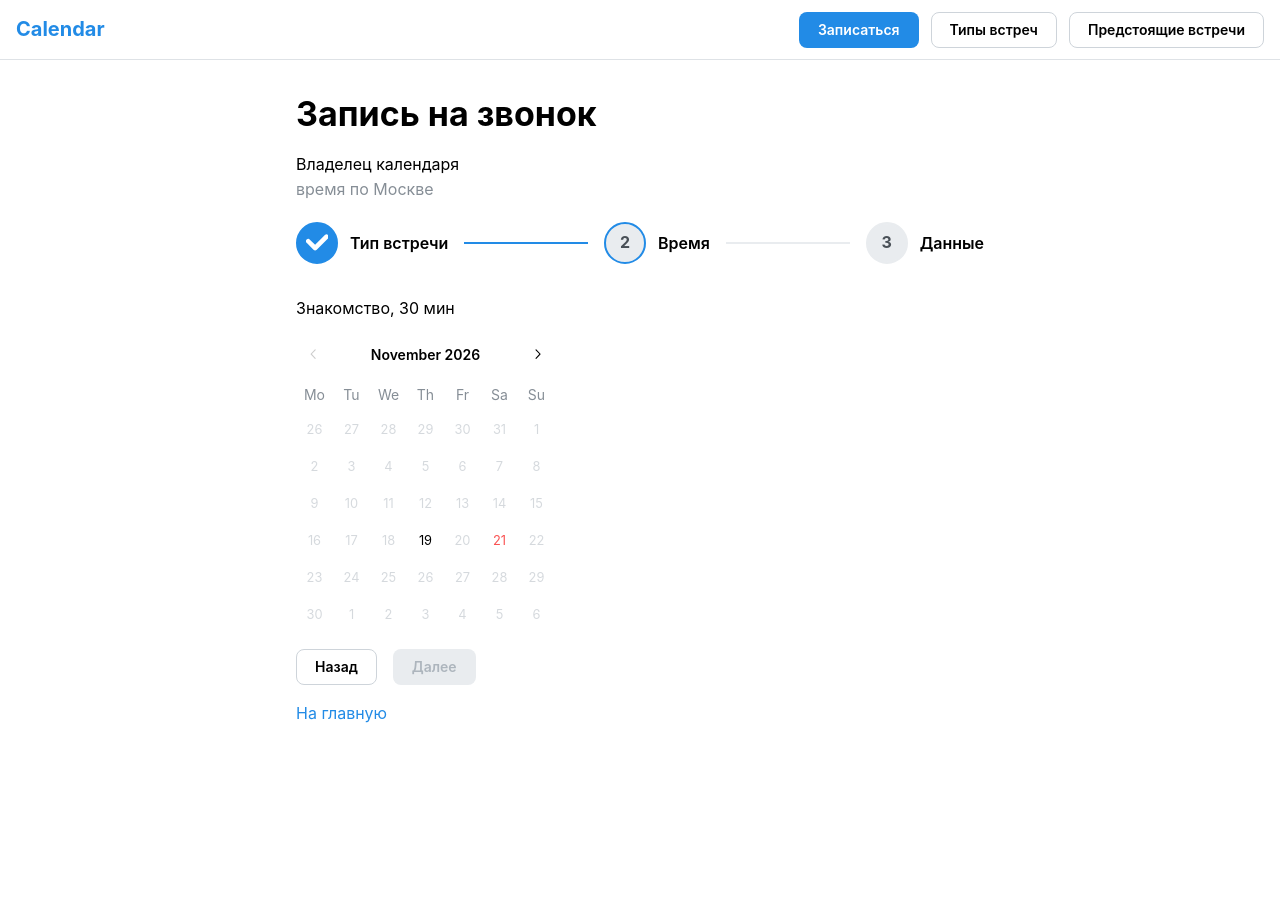
Test case: шаг «Время» › «Далее» ведёт на шаг «Данные», «Назад» возвращает на «Время» с выбранным слотом
The width and height of the screenshot is (1280, 900).
Click the button "19".
click(426, 541)  # box [408,523,444,559]
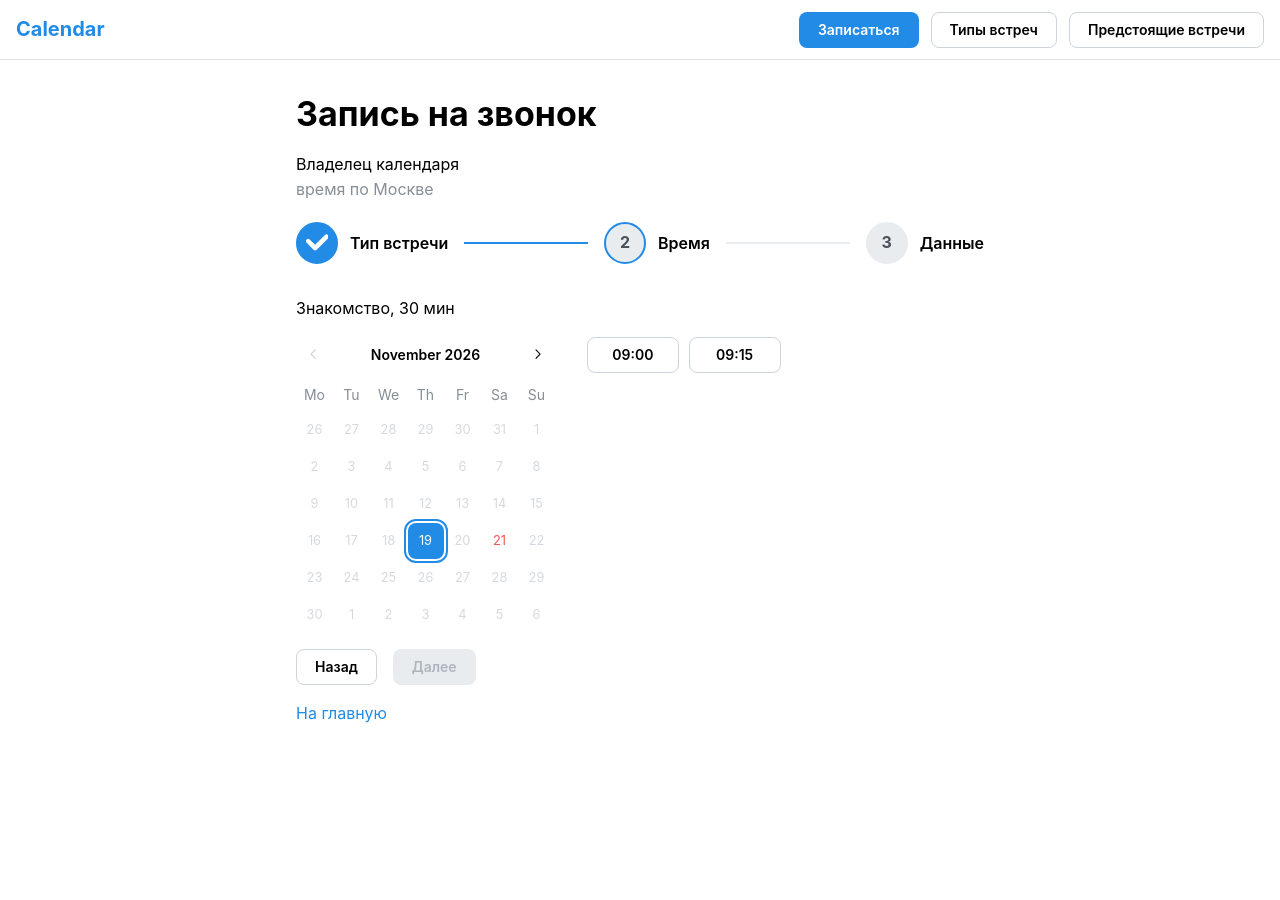
Click the button "09:15".
click(735, 355)  # box [689,337,781,373]
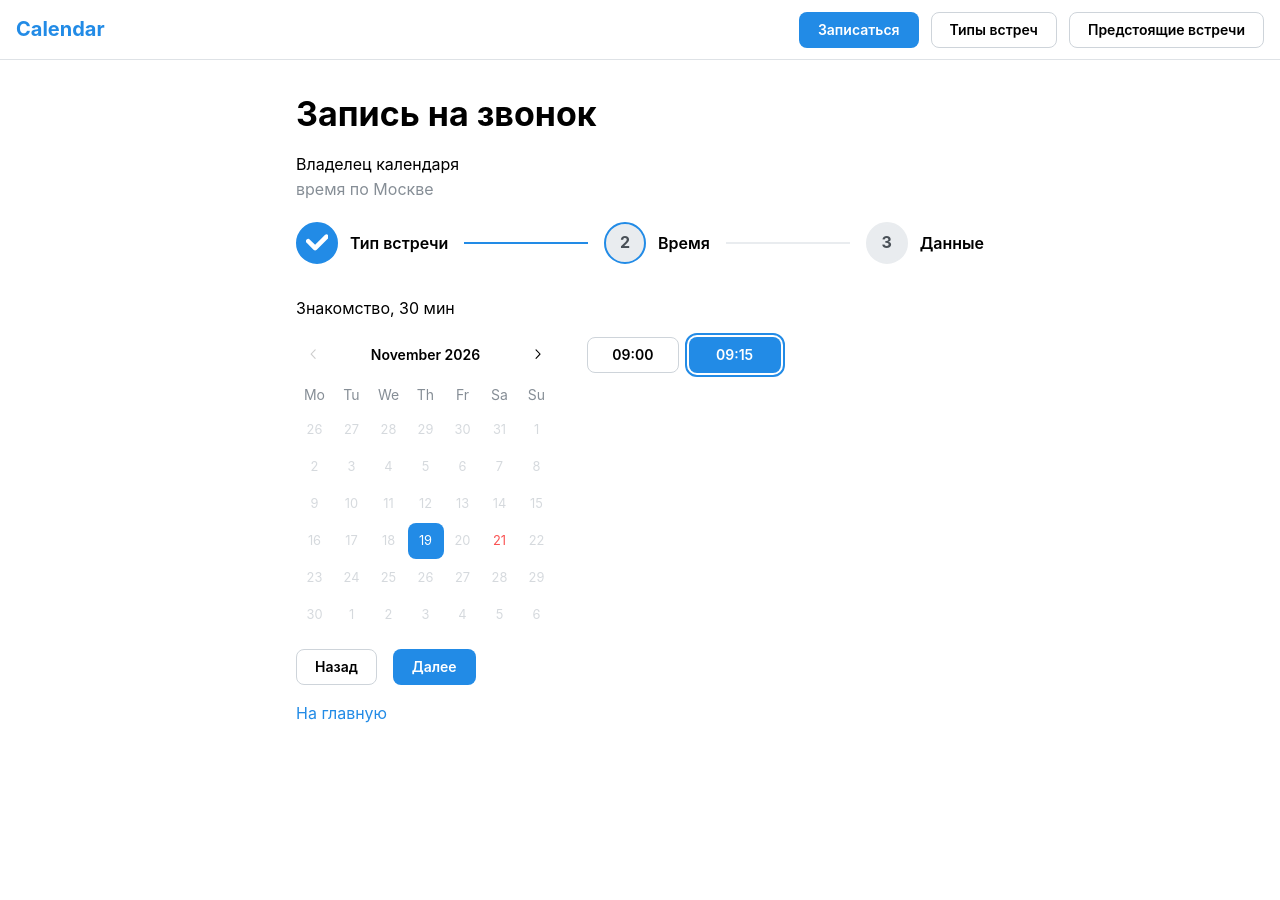
Click the button "Далее".
click(434, 667)  # box [393,649,476,685]
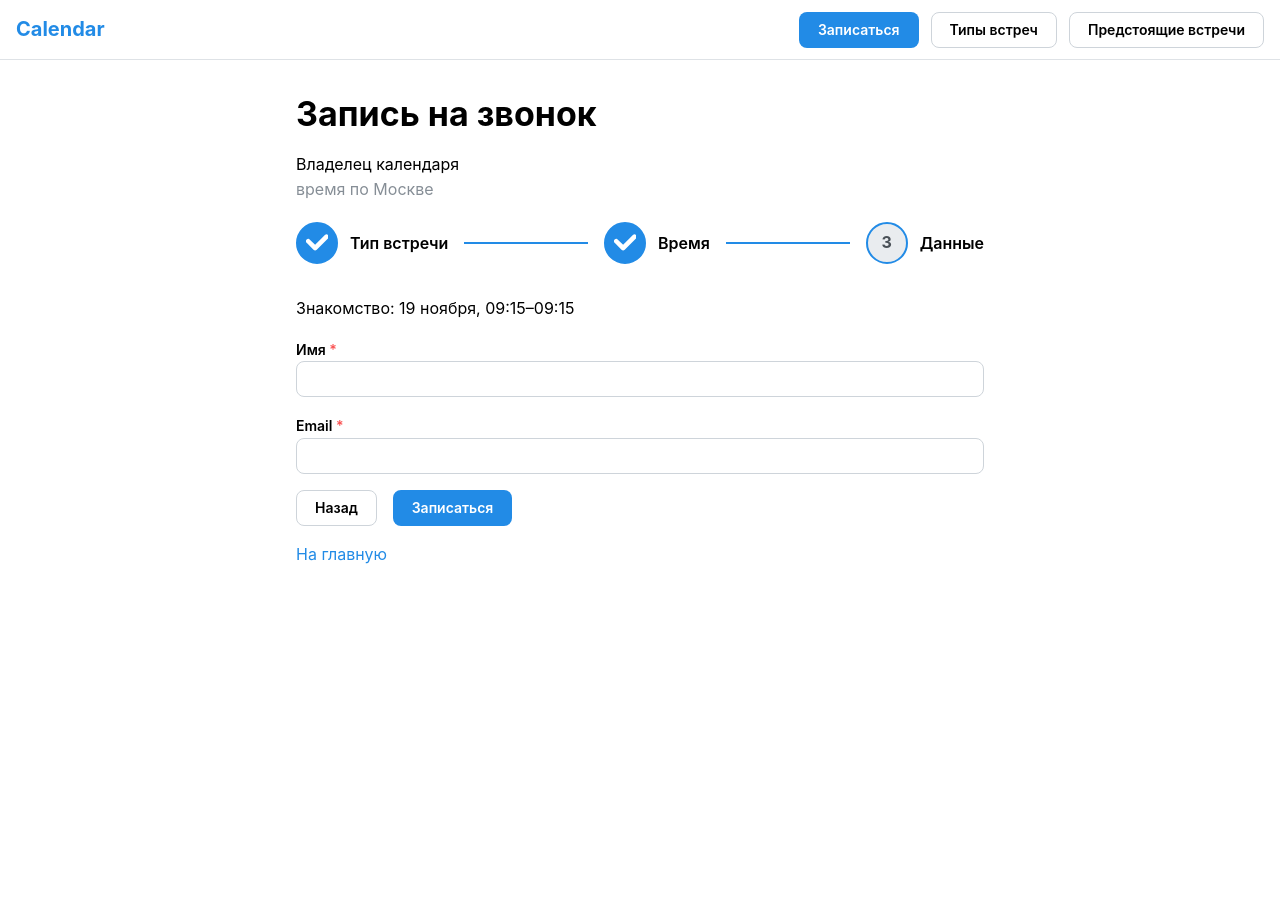
Click the button "Время".
click(657, 243)  # box [604,222,710,264]
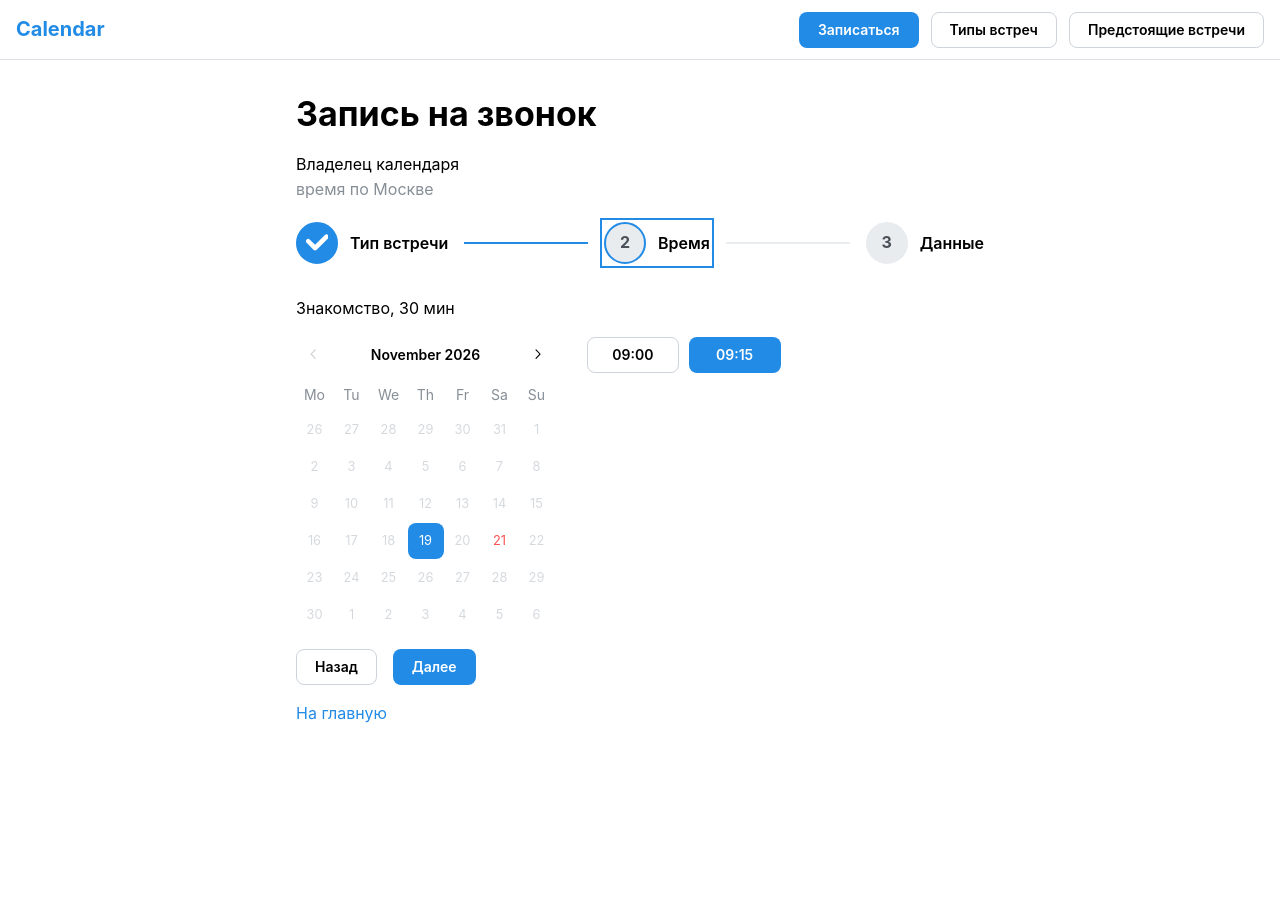
Expected: the button "Далее" is enabled, [393,649,476,685]
